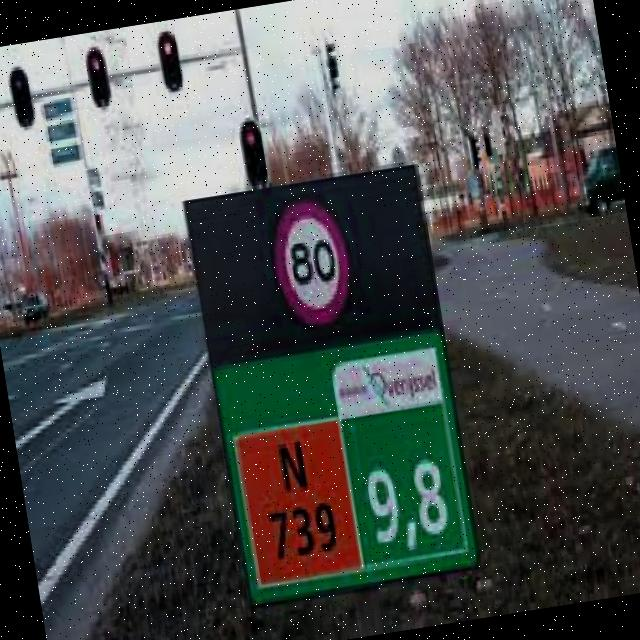Ograniczenie predkosci do 80: (262, 194, 364, 345)
